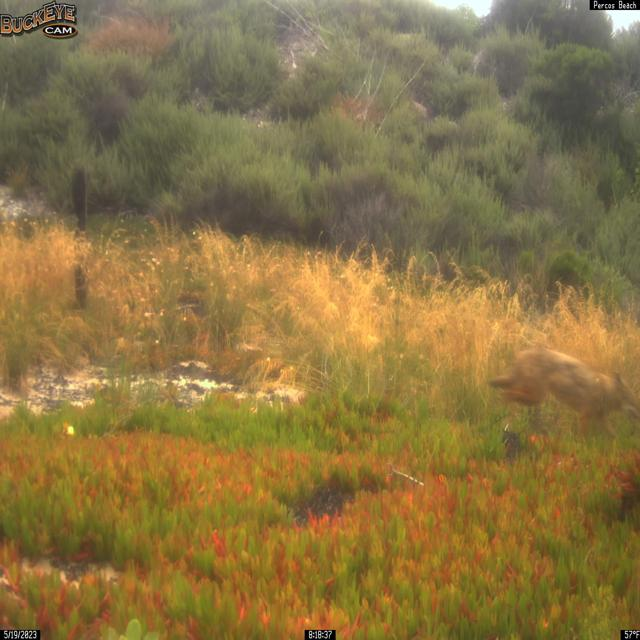coyote: (487, 346, 640, 445)
